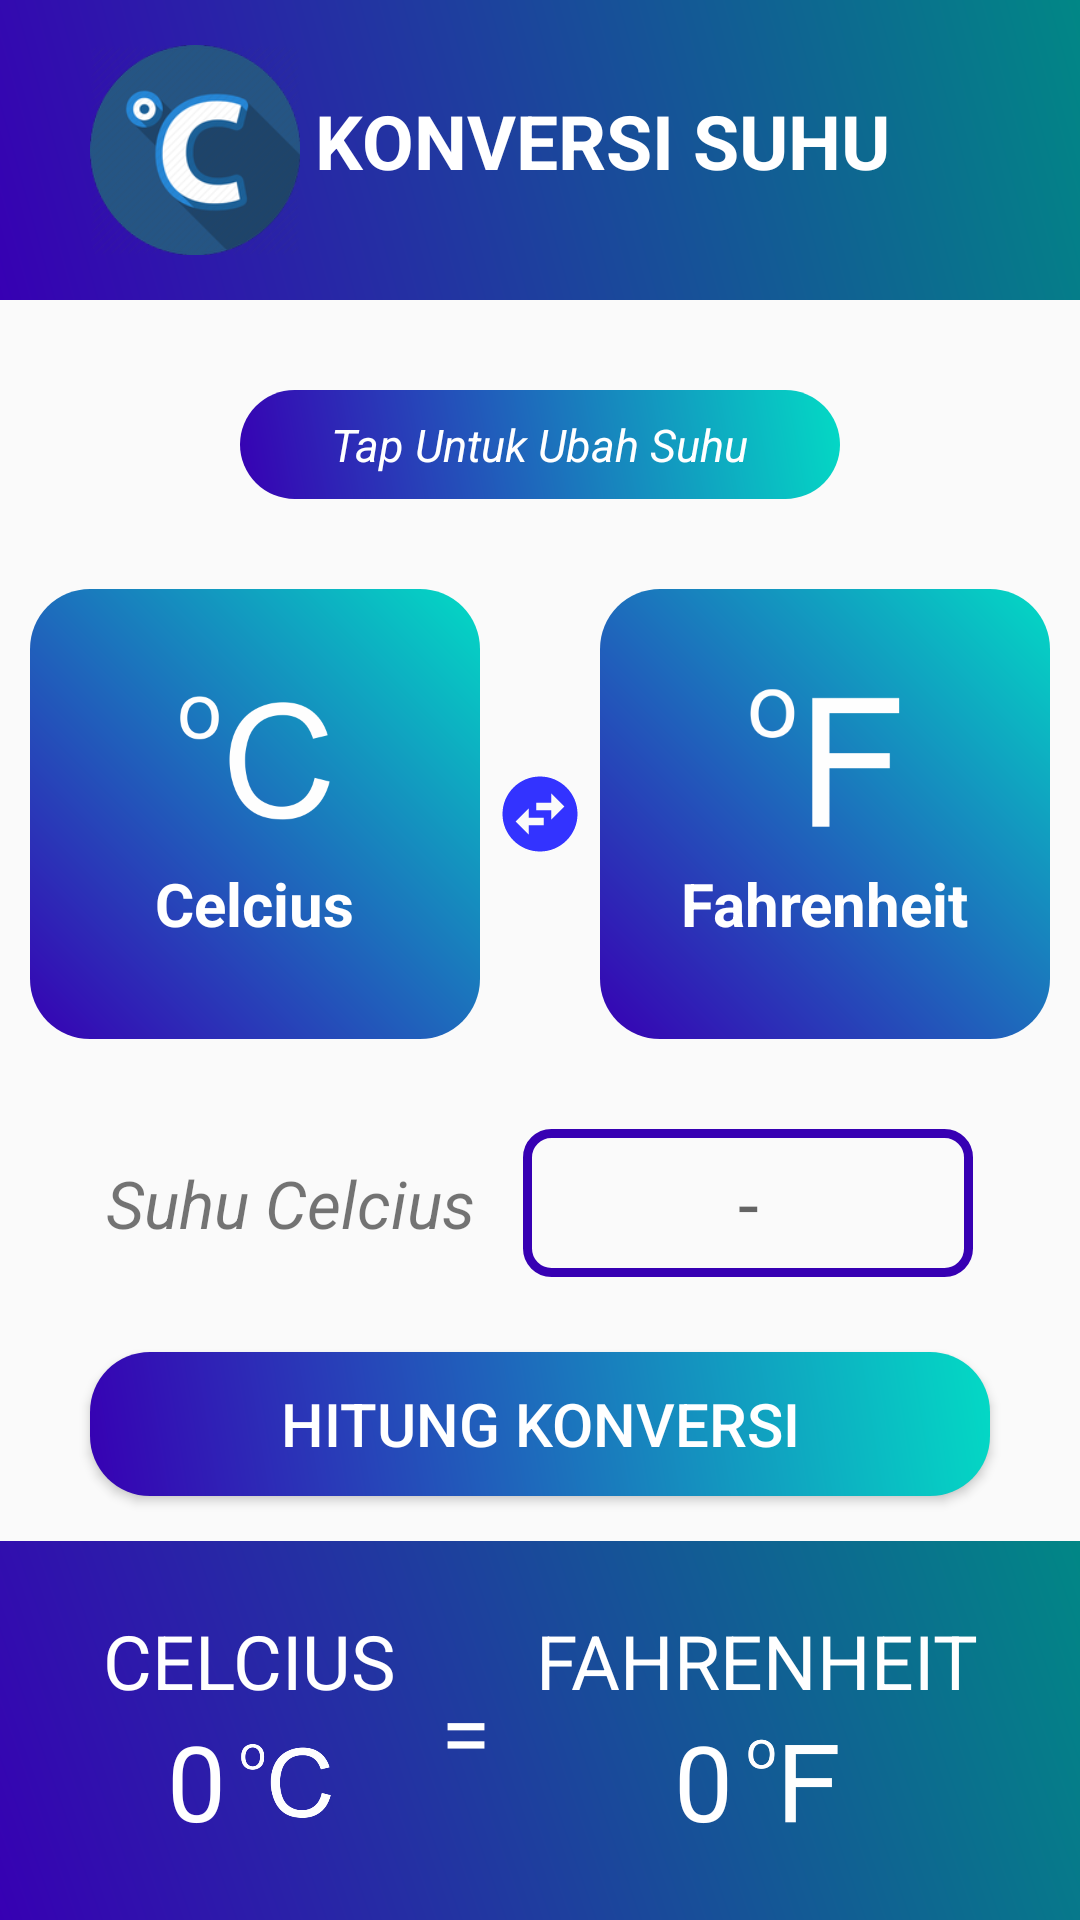

Screen size 1080x1920. Icon name, then its center in pixels as [x,y]:
swap: [540,814]
